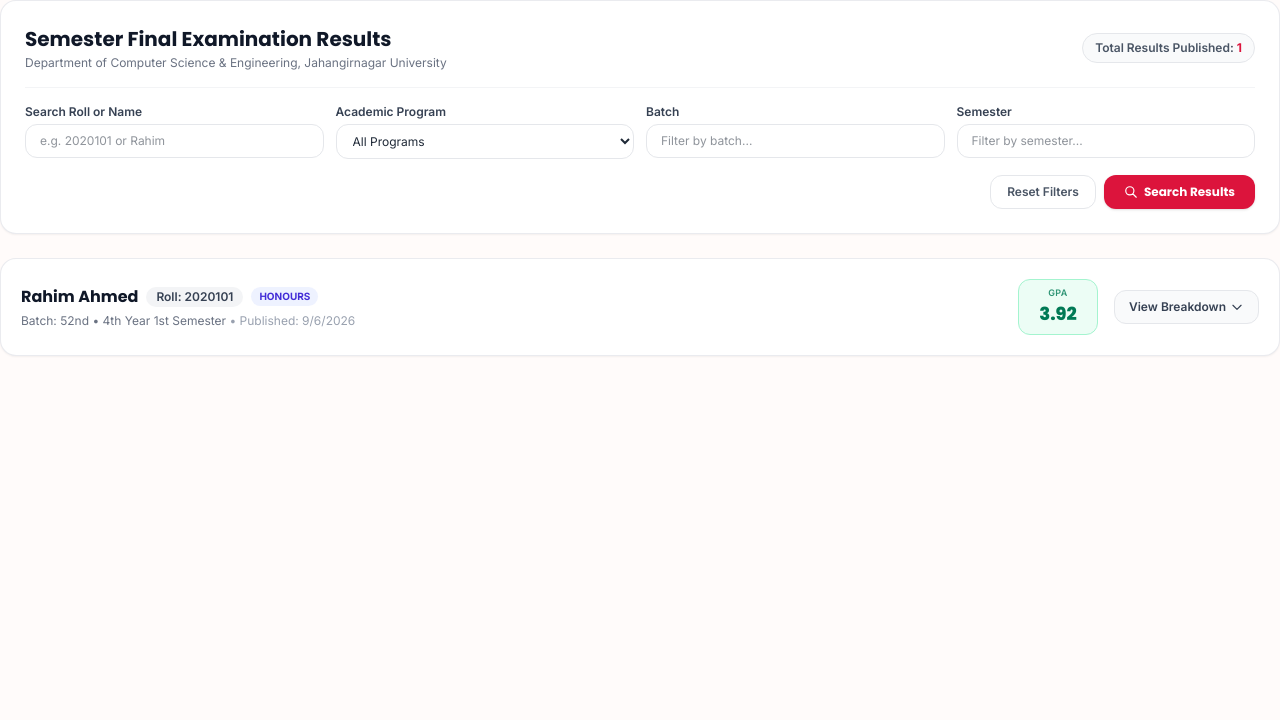
it: ResultQueryView Component › toggles and reveals detailed GradeSheetTable breakdown on click
Check: the heading "Rahim Ahmed" is shown, box [21,285,138,309]
Click the button "View Breakdown": (1186, 307) [1114,290,1259,324]
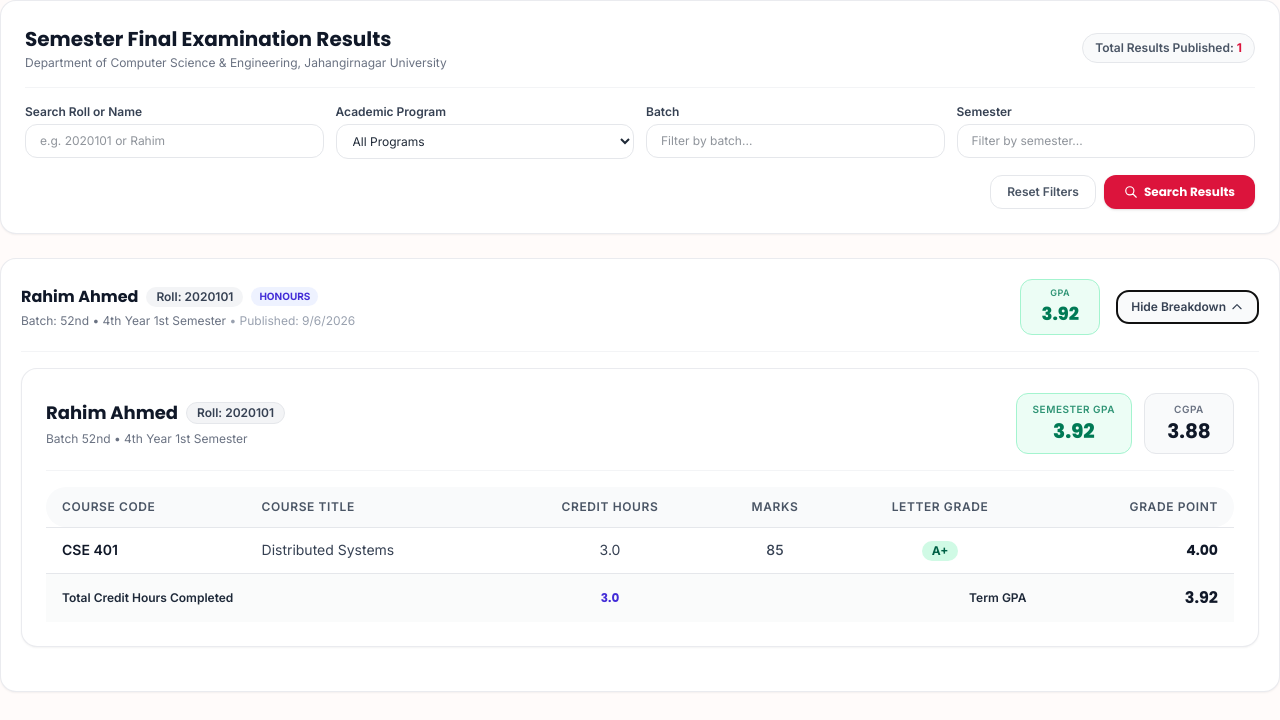
Check: the text "Distributed Systems" is shown, box [246,527,508,573]
Check: the text "CSE 401" is shown, box [46,527,246,573]
Check: the button "Hide Breakdown" is shown, box [1116,290,1259,324]
